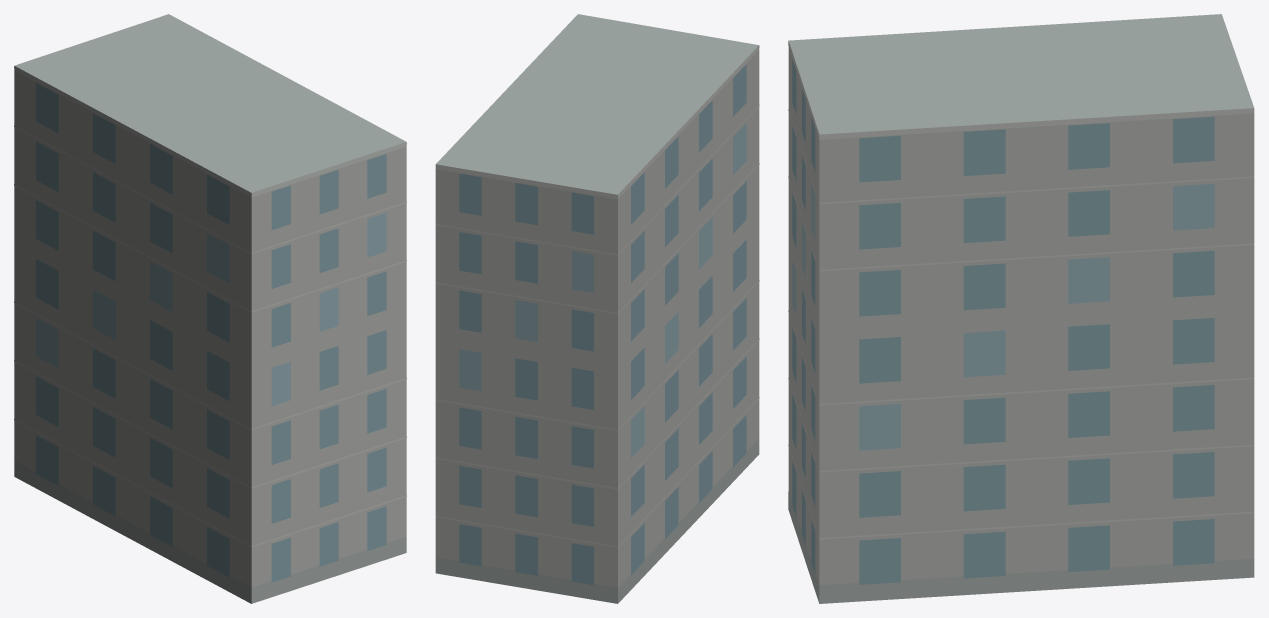
The model's file is survey-upis-32632121.glb.
3 views of the same model, side by side, from view 1: azimuth 30°, elevation 25°; view 2: azimuth 150°, elevation 25°; view 3: azimuth 270°, elevation 25° (orthographic). The views are drawn at different scales.
Parts seen in each view (by area): view 1: survey-upis-32632121.tmp; view 2: survey-upis-32632121.tmp; view 3: survey-upis-32632121.tmp.
Part boxes in pixels (left/top/right/bottom): survey-upis-32632121.tmp: left=14, top=14, right=406, bottom=603; survey-upis-32632121.tmp: left=435, top=14, right=759, bottom=603; survey-upis-32632121.tmp: left=788, top=14, right=1254, bottom=603.
Size of the model in its own units: 11.78 by 21.35 by 19.23.
